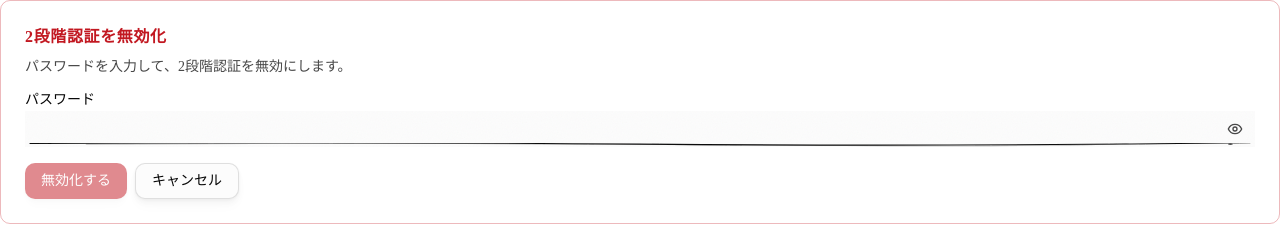
Test: DisableForm › ローディング状態 › 送信中は「無効化中...」と表示される
Type "password123" into the password field labelled "パスワード" at (640, 129), box [25, 111, 1255, 147]
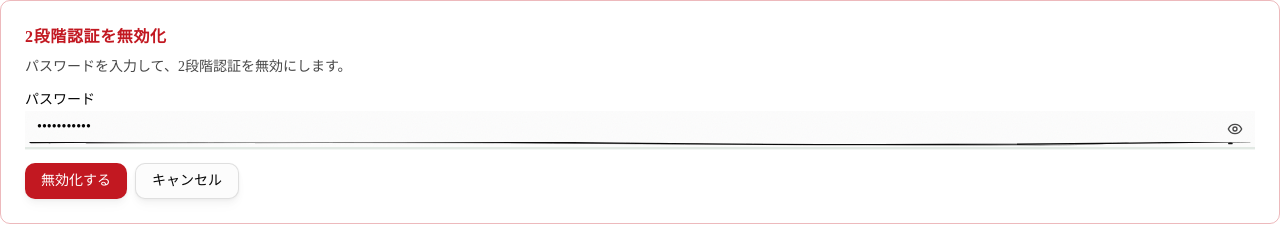
Click the button "無効化する" at (76, 181), box [25, 163, 127, 199]
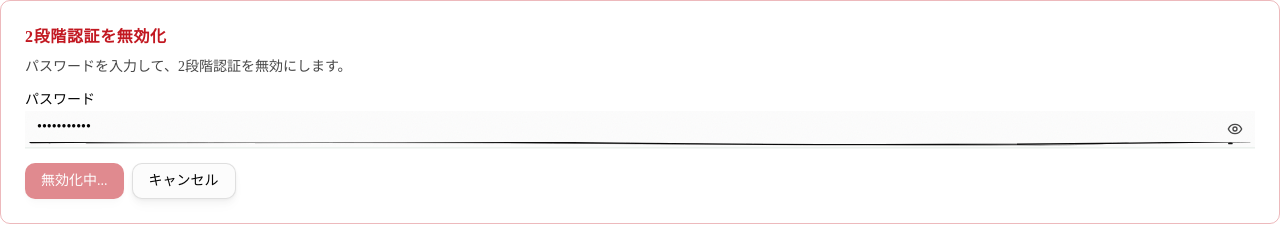
Expected: the button "無効化中..." is shown, [25, 163, 124, 199]
